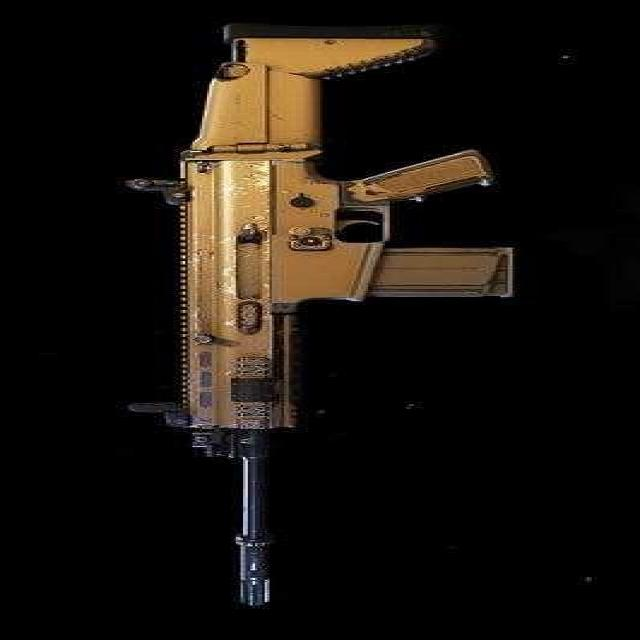heavyweapon: (71, 10, 550, 626)
